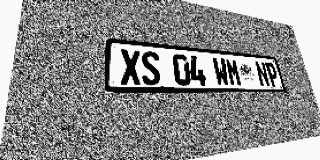0: (172, 53, 191, 86)
4: (188, 55, 207, 86)
M: (225, 58, 242, 86)
N: (254, 61, 270, 86)
P: (264, 62, 280, 87)
S: (140, 51, 161, 85)
W: (212, 57, 230, 86)
X: (120, 49, 142, 85)
